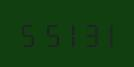five: (18, 20, 36, 47), (37, 20, 55, 47)
one: (56, 20, 74, 47), (94, 20, 112, 47)
three: (75, 20, 93, 47)
